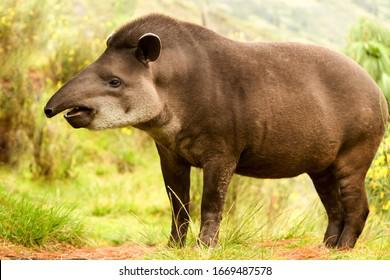Anta: (37, 10, 388, 252)
